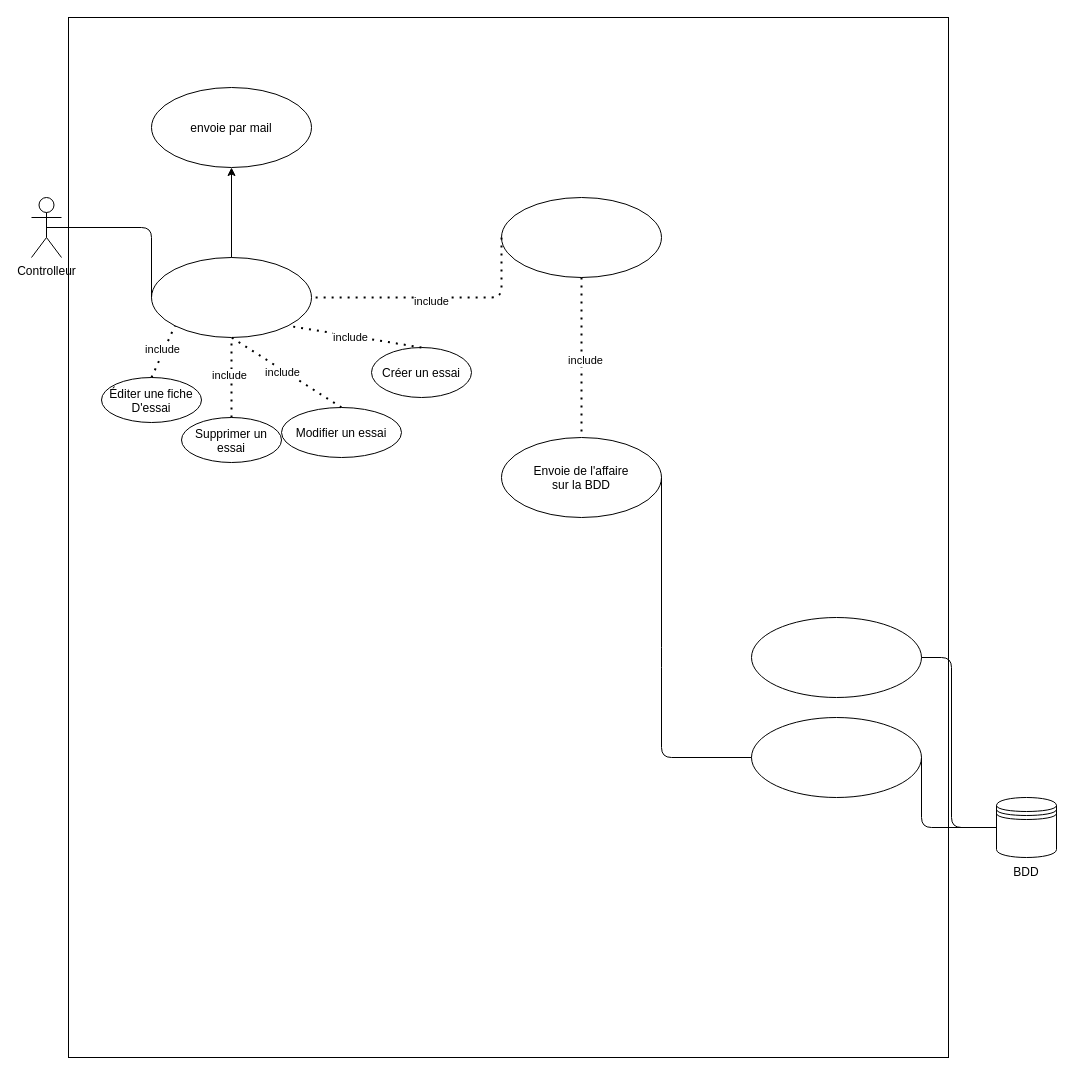
Some shapes in this 1074 by 1075 pixel diagram are drawn without their labels. The box of each missing label's shape, as (x1, y1, x2, y2) in pixels:
Authentification du contrôleur: (500, 196, 662, 278)
Enregistrer l'affaire reçu sur la BDD: (750, 716, 922, 798)
Gestion des PV: (150, 256, 312, 338)
Modifier une affaire de la BDD: (750, 616, 922, 698)
